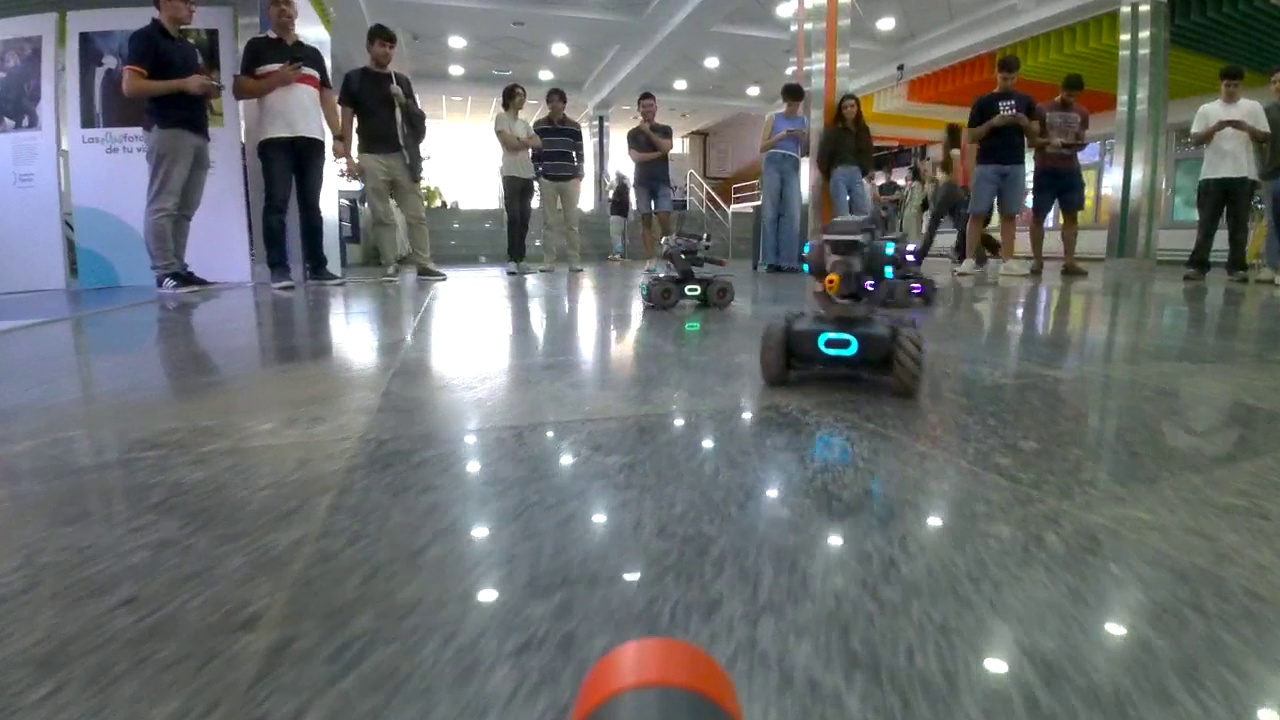robot: (761, 213, 926, 402), (639, 230, 737, 312), (876, 233, 935, 307)
